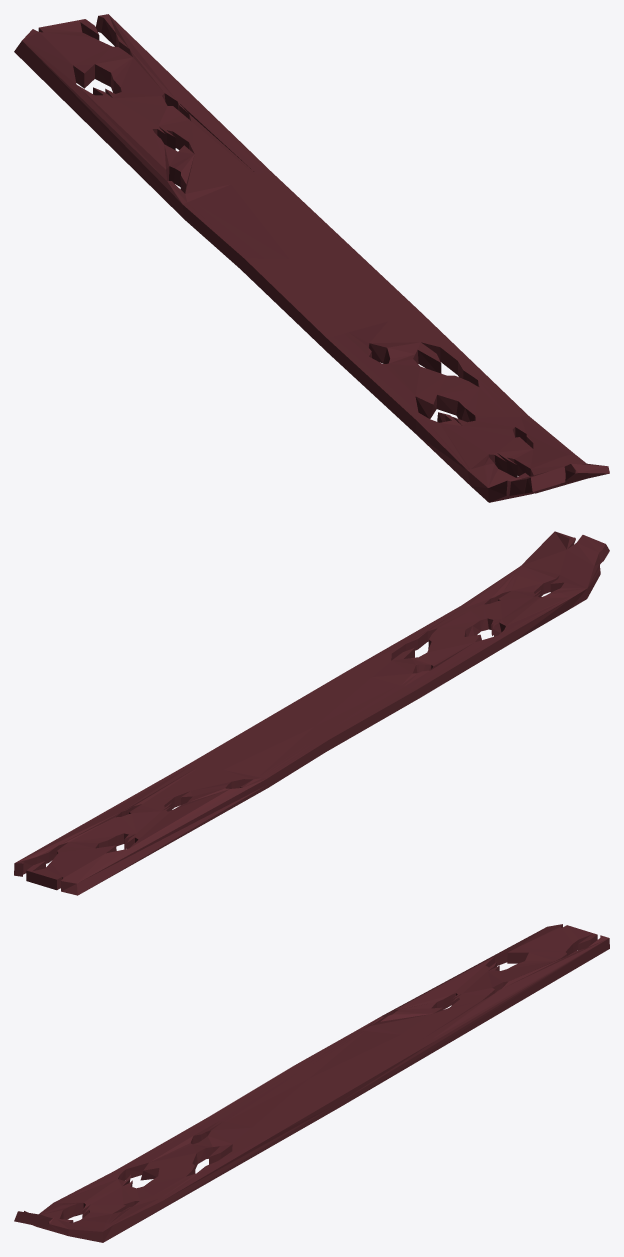
The model's file is WreckedFence_Ski.fbx.
3 renders of one model, top to bottom at view 1: azimuth 30°, elevation 25°; view 2: azimuth 150°, elevation 25°; view 3: azimuth 330°, elevation 25°, orthographic. The views are drawn at different scales.
Visible parts, largest first — view 1: Fence_Ski; view 2: Fence_Ski; view 3: Fence_Ski.
Boxes of the visible parts, bbox=[...] form: Fence_Ski: bbox=[14, 14, 609, 502]; Fence_Ski: bbox=[14, 531, 609, 895]; Fence_Ski: bbox=[14, 924, 609, 1242].
Bounding box in the file's own units: 44.5 × 11.58 × 242.
